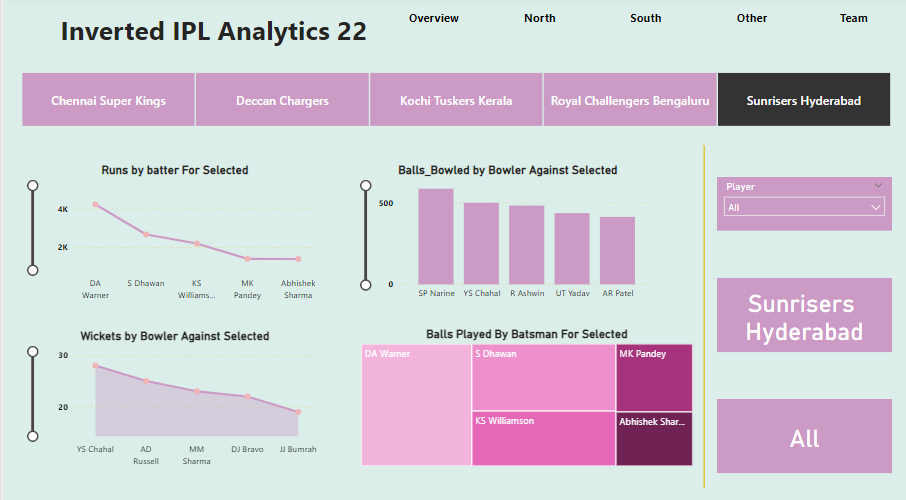

This screenshot's page, from the dashboard's own definition file:
{"tool":"powerbi","page":{"name":"South","canvas":[1280,720],"ordinal":2},"visuals":[{"type":"slicer","fields":{"Values":["deliveries.batting_team"]},"box":[0,101,1280,89.4],"z":0},{"type":"card","fields":{"Values":["deliveries.Selected Team"]},"box":[1010,398,248,105],"z":1000},{"type":"slicer","fields":{"Values":["deliveries.batter"]},"box":[1010,255,248,76],"z":2000},{"type":"lineChart","title":"Runs by batter For Selected","fields":{"Category":["deliveries.batter"],"Y":["deliveries.total_runs"]},"box":[30,236,425,202],"z":3000},{"type":"areaChart","title":"Wickets by Bowler Against Selected","fields":{"Category":["deliveries.bowler"],"Y":["deliveries.is_wicket"]},"box":[30,470,425,202],"z":4000},{"type":"treemap","title":"Balls Played By Batsman For Selected","fields":{"Group":["deliveries.batter"],"Values":["deliveries.inning"]},"box":[502,468,479,202],"z":5000},{"type":"columnChart","title":"Balls_Bowled by Bowler Against Selected","fields":{"Category":["deliveries.bowler"],"Y":["deliveries.over"]},"box":[502,235,425,202],"z":6000},{"type":"card","fields":{"Values":["deliveries.Selected Player"]},"box":[1010,570,248,105],"z":7000},{"type":"shape","box":[964,209.2,57.2,486.3],"z":8000},{"type":"shape","box":[534.5,0,150.2,59],"z":9000},{"type":"shape","box":[684.7,0,150.2,59],"z":10000},{"type":"shape","box":[834.9,0,150.2,59],"z":11000},{"type":"shape","box":[985,0,150.2,59],"z":12000},{"type":"shape","box":[1129.8,0,150.2,59],"z":13000},{"type":"textbox","box":[51.8,16.1,500.6,85.8],"z":14000}]}

Visuals, with their boxes in screenshot pixels (x1, y1, x2, y2), scaled from the page's 1280x720 canvas onto the 906x500 screenshot:
slicer - deliveries.batting_team: {"x1": 0, "y1": 70, "x2": 905, "y2": 132}
card - deliveries.Selected Team: {"x1": 715, "y1": 276, "x2": 890, "y2": 349}
slicer - deliveries.batter: {"x1": 715, "y1": 177, "x2": 890, "y2": 230}
"Runs by batter For Selected" lineChart: {"x1": 21, "y1": 164, "x2": 322, "y2": 304}
"Wickets by Bowler Against Selected" areaChart: {"x1": 21, "y1": 326, "x2": 322, "y2": 467}
"Balls Played By Batsman For Selected" treemap: {"x1": 355, "y1": 325, "x2": 694, "y2": 465}
"Balls_Bowled by Bowler Against Selected" columnChart: {"x1": 355, "y1": 163, "x2": 656, "y2": 303}
card - deliveries.Selected Player: {"x1": 715, "y1": 396, "x2": 890, "y2": 469}
shape: {"x1": 682, "y1": 145, "x2": 723, "y2": 483}
shape: {"x1": 378, "y1": 0, "x2": 485, "y2": 41}
shape: {"x1": 485, "y1": 0, "x2": 591, "y2": 41}
shape: {"x1": 591, "y1": 0, "x2": 697, "y2": 41}
shape: {"x1": 697, "y1": 0, "x2": 804, "y2": 41}
shape: {"x1": 800, "y1": 0, "x2": 905, "y2": 41}
textbox: {"x1": 37, "y1": 11, "x2": 391, "y2": 71}
